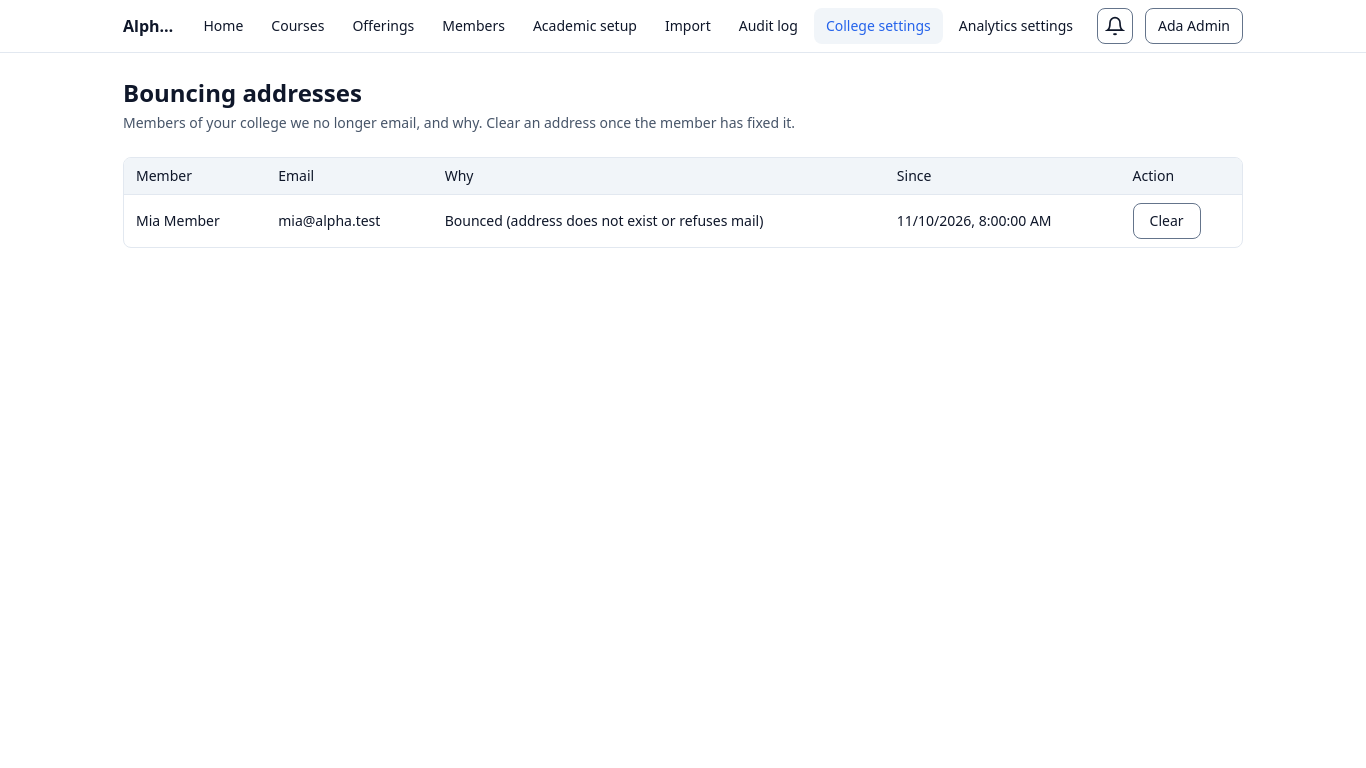
Test case: bouncing addresses › lists who is not emailed and why; clearing asks first and names the address
This screenshot has width=1366, height=768.
Expected: the text "mia@alpha.test" is shown, [266,194,433,247]
Expected: the text "Bounced (address does not exist or refuses mail)" is shown, [433,194,885,247]
Click the button with aria-label "Clear mia@alpha.test" at (1167, 221), box [1133,203,1201,239]
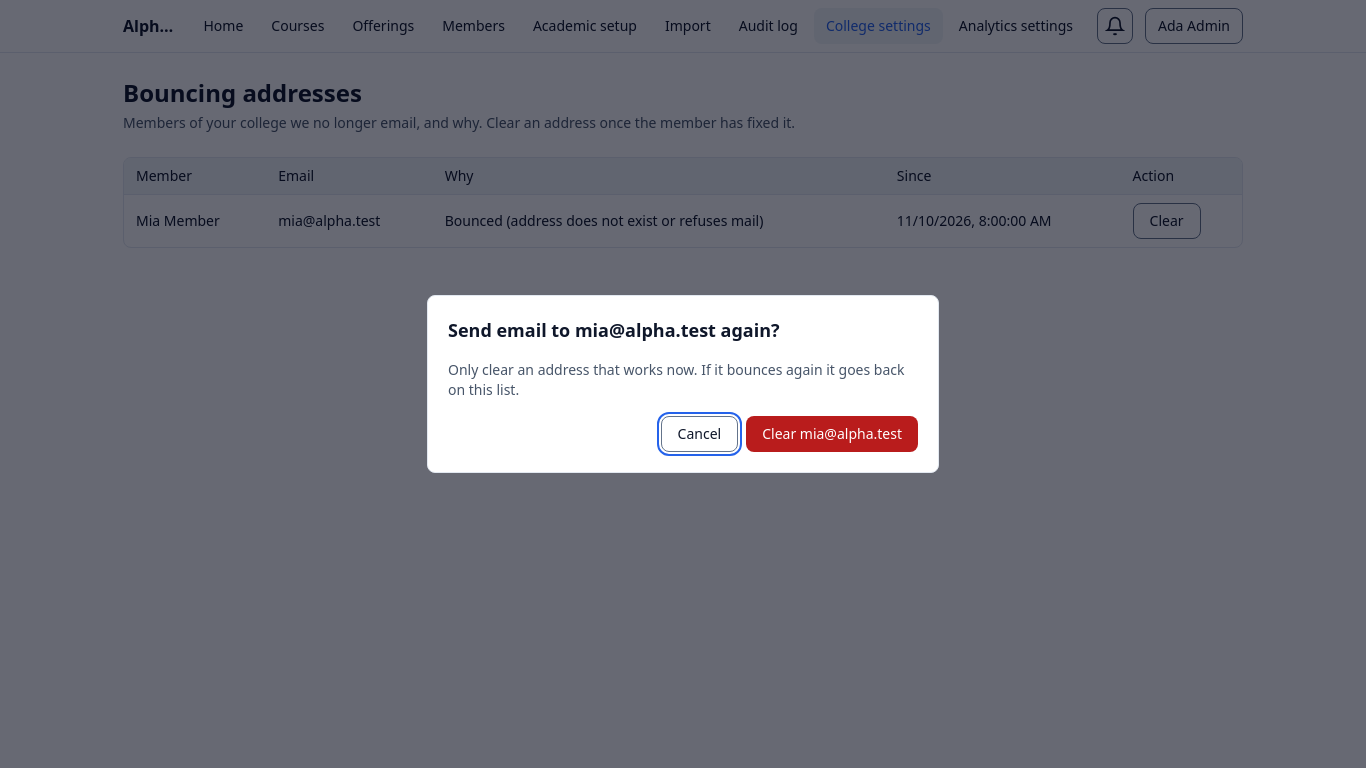
Result: the dialog shows "Send email to mia@alpha.test again?" at [448,318,780,342]
Click the button "Clear mia@alpha.test" at (832, 434), box [746,416,918,452]
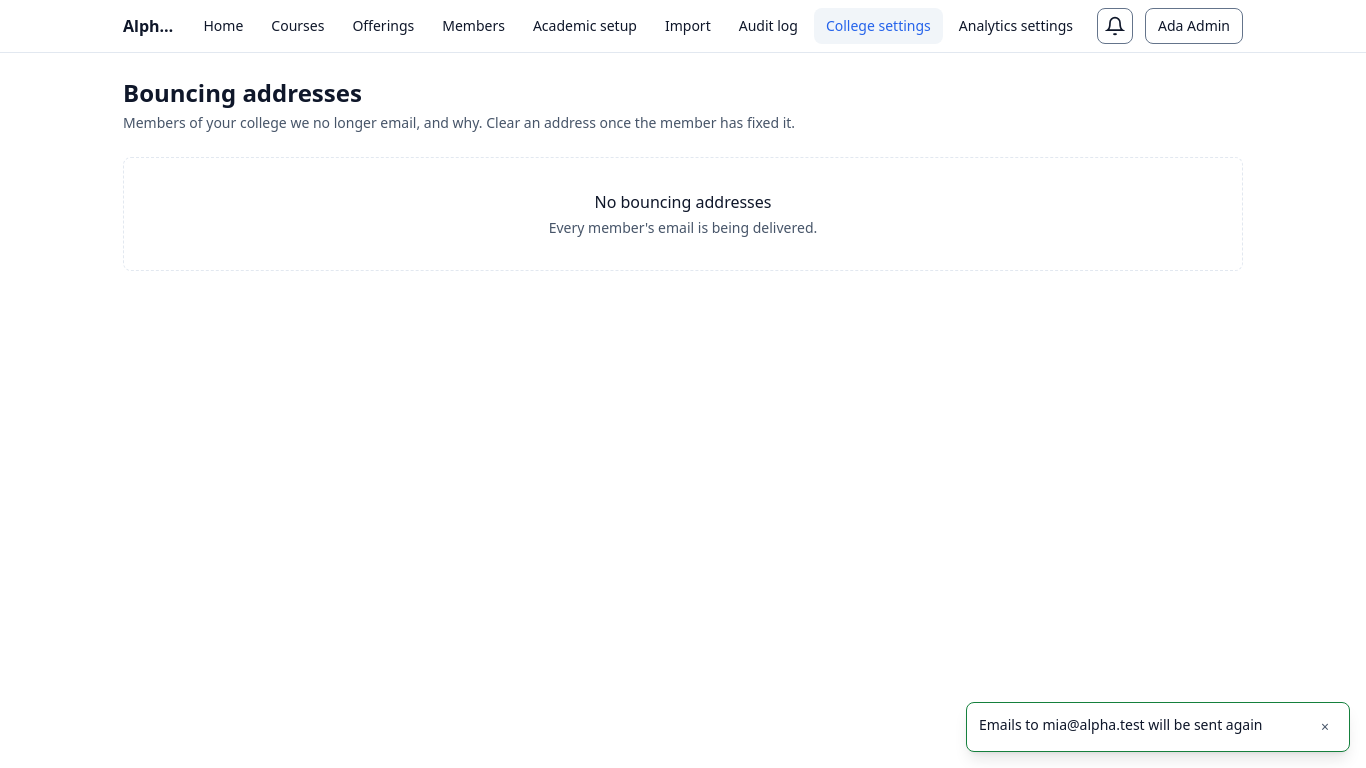
Result: the text "No bouncing addresses" is shown at [594,191,772,213]
